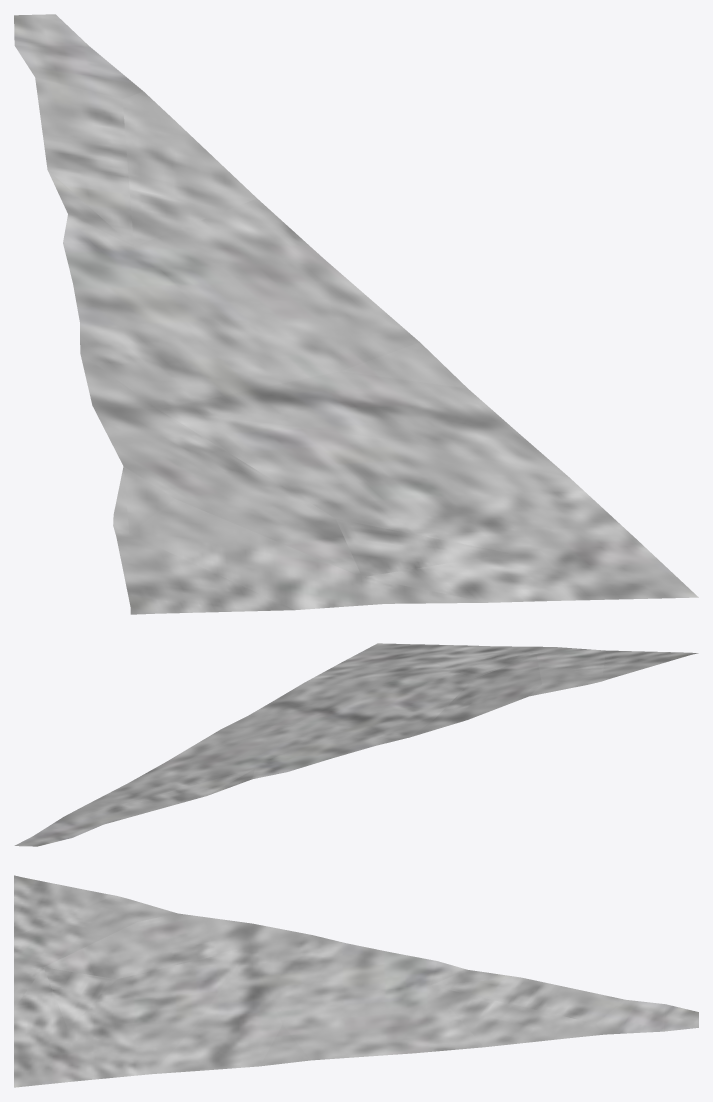
3 renders of one model, top to bottom at view 1: azimuth 30°, elevation 25°; view 2: azimuth 150°, elevation 25°; view 3: azimuth 270°, elevation 25°, orthographic. The views are drawn at different scales.
Size of the model in its own units: 0.4272 by 0.0873 by 0.8373.
1 material, 1 textured.
